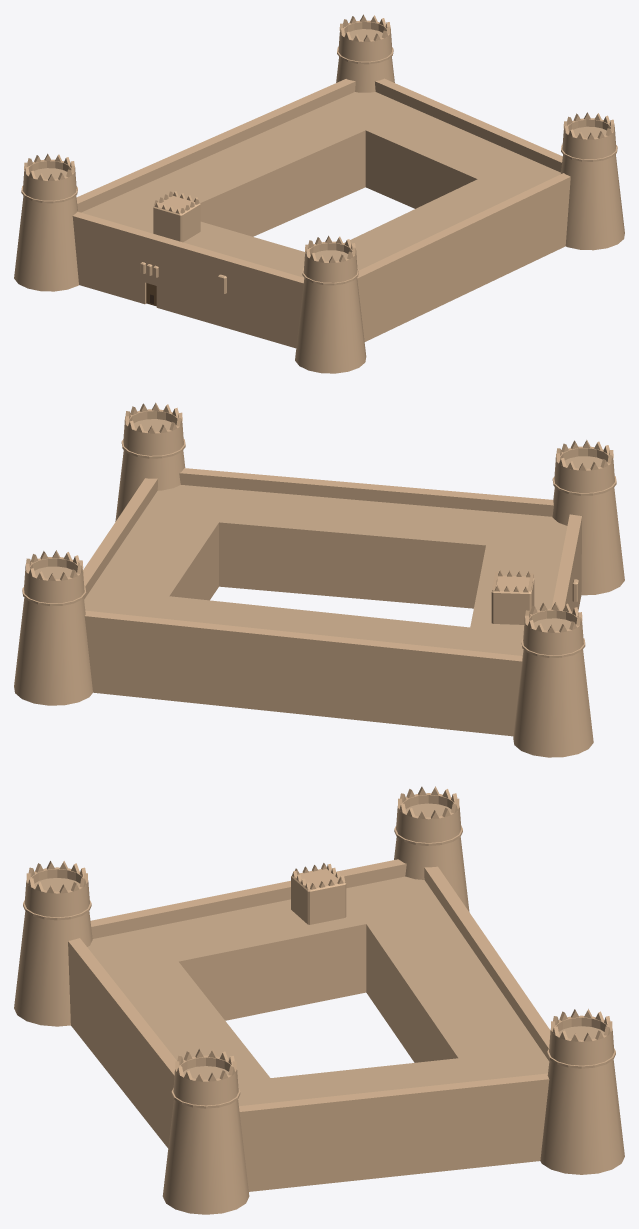
File: riyadh-masmak-fortress.glb
3 renders of one model, top to bottom at view 1: azimuth 30°, elevation 25°; view 2: azimuth 150°, elevation 25°; view 3: azimuth 270°, elevation 25°, orthographic. The views are drawn at different scales.
Parts seen in each view (by area): view 1: Masmak Fortress; view 2: Masmak Fortress; view 3: Masmak Fortress.
Part boxes in pixels (bbox=[...]): Masmak Fortress: bbox=[14, 14, 624, 373]; Masmak Fortress: bbox=[14, 402, 624, 757]; Masmak Fortress: bbox=[14, 786, 624, 1214].
Bounding box in the file's own units: 83.3 × 17.55 × 71.9.
